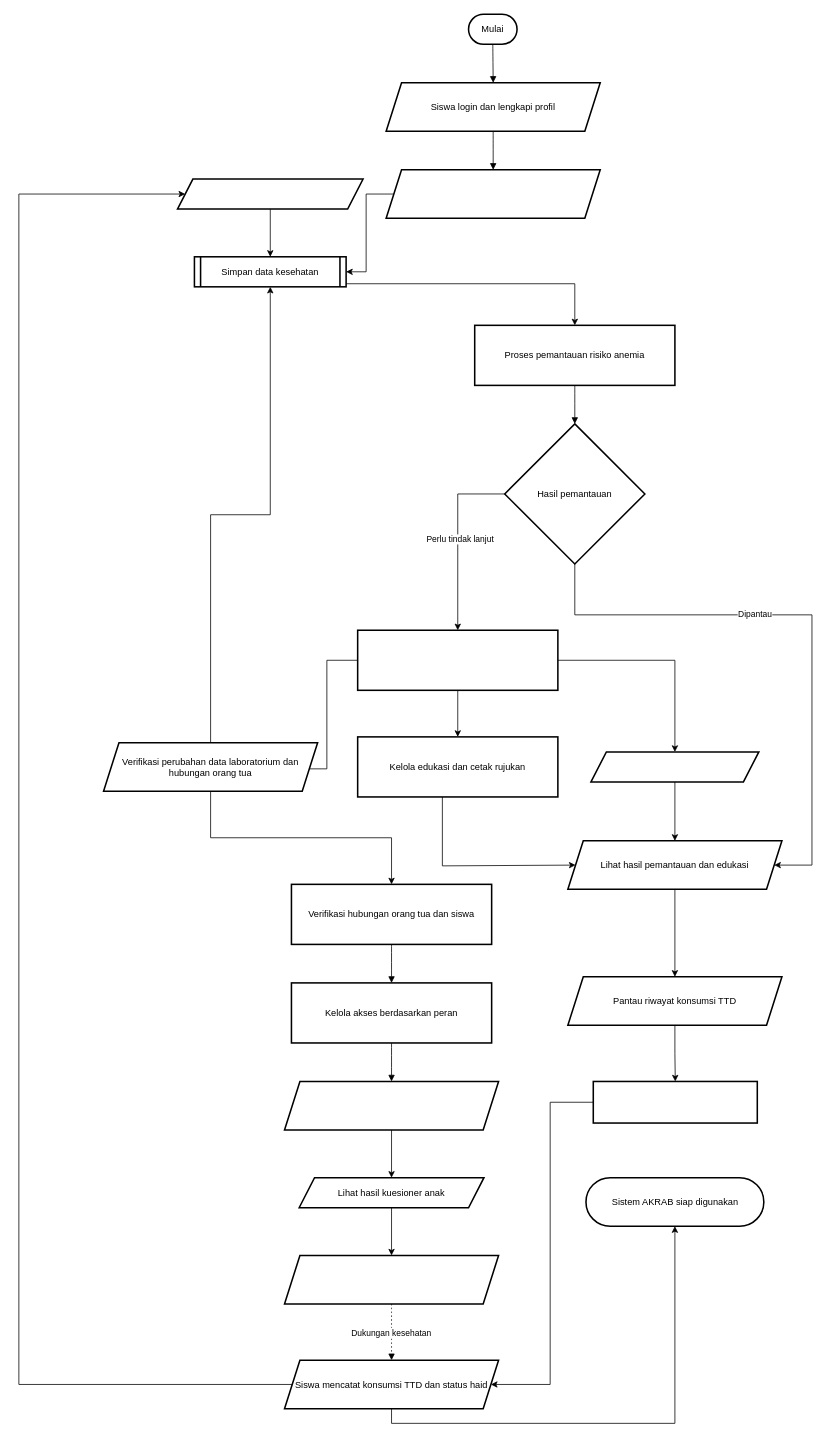
Some shapes in this 832 by 1443 pixel diagram are drawn without their labels. Each missing label, with the box of its shape:
Berikan dukungan dan pengingat: (283, 1254, 499, 1304)
Jawab konsultasi siswa: (590, 751, 759, 782)
Orang tua login setelah hubungan diverifikasi: (283, 1080, 499, 1130)
Petugas UKS memantau data dan kepatuhan TTD: (357, 629, 558, 691)
Proses pengingat TTD: (592, 1080, 758, 1123)
Siswa mengirim konsultasi: (176, 178, 363, 209)
Siswa mengisi kuesioner dan data laboratorium: (385, 169, 601, 219)
